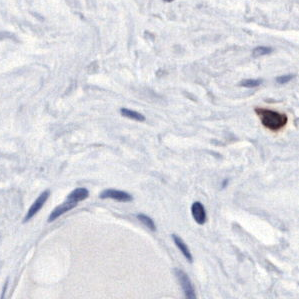Lymphocyte: (251, 106, 292, 133)
